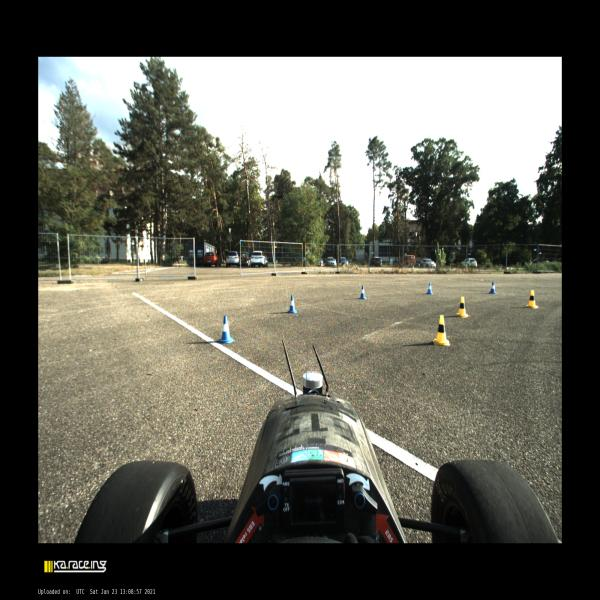blue_cone: (218, 315, 234, 344), (288, 295, 297, 314), (359, 285, 367, 300), (426, 282, 433, 294), (490, 281, 496, 294)
yellow_cone: (433, 315, 450, 346), (456, 296, 470, 318), (526, 290, 538, 309)
